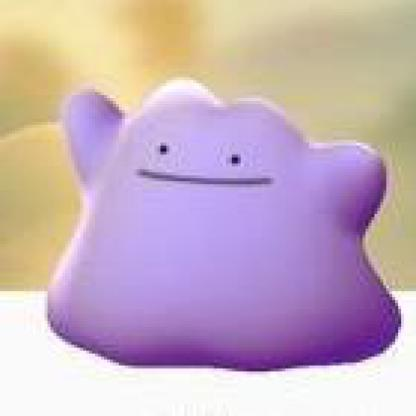Ditto: (4, 10, 416, 416)
